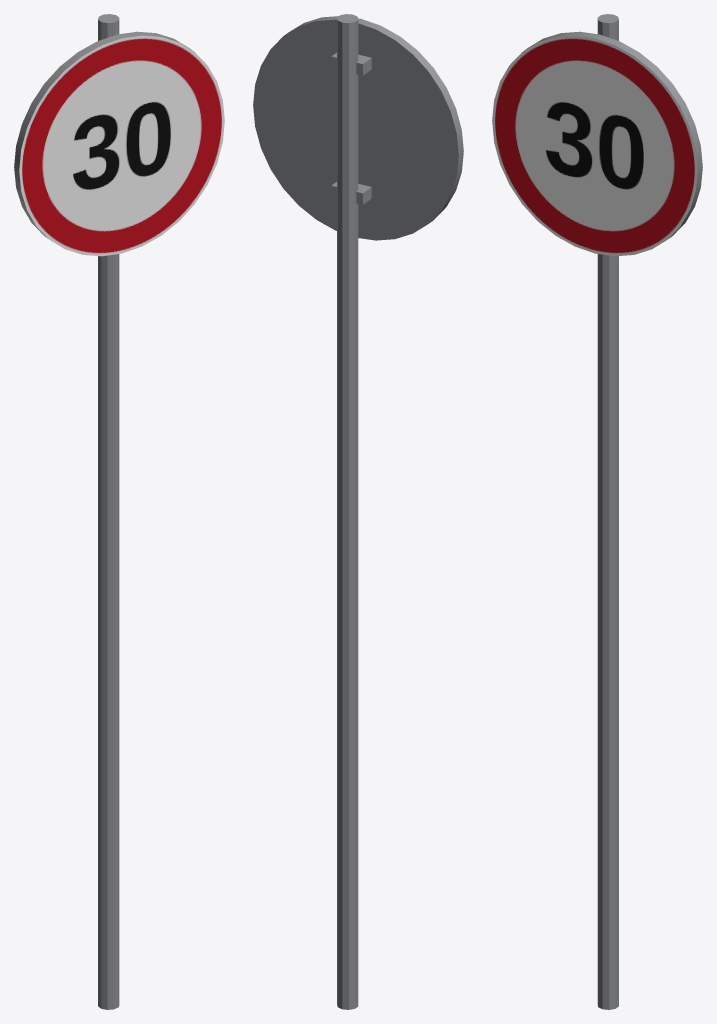
File: sign-speed-30.glb
The picture shows the model from 3 angles, left to right: view 1: azimuth 30°, elevation 25°; view 2: azimuth 150°, elevation 25°; view 3: azimuth 330°, elevation 25°; orthographic projection.
Visible parts, largest first — view 1: sign-speed-30; view 2: sign-speed-30; view 3: sign-speed-30.
Part boxes in pixels (left/top/right/bottom): sign-speed-30: left=14, top=14, right=224, bottom=1009; sign-speed-30: left=253, top=14, right=463, bottom=1009; sign-speed-30: left=492, top=14, right=702, bottom=1009.
Bounding box in the file's own units: 0.65 × 2.98 × 0.103.
1 material, 1 textured.
